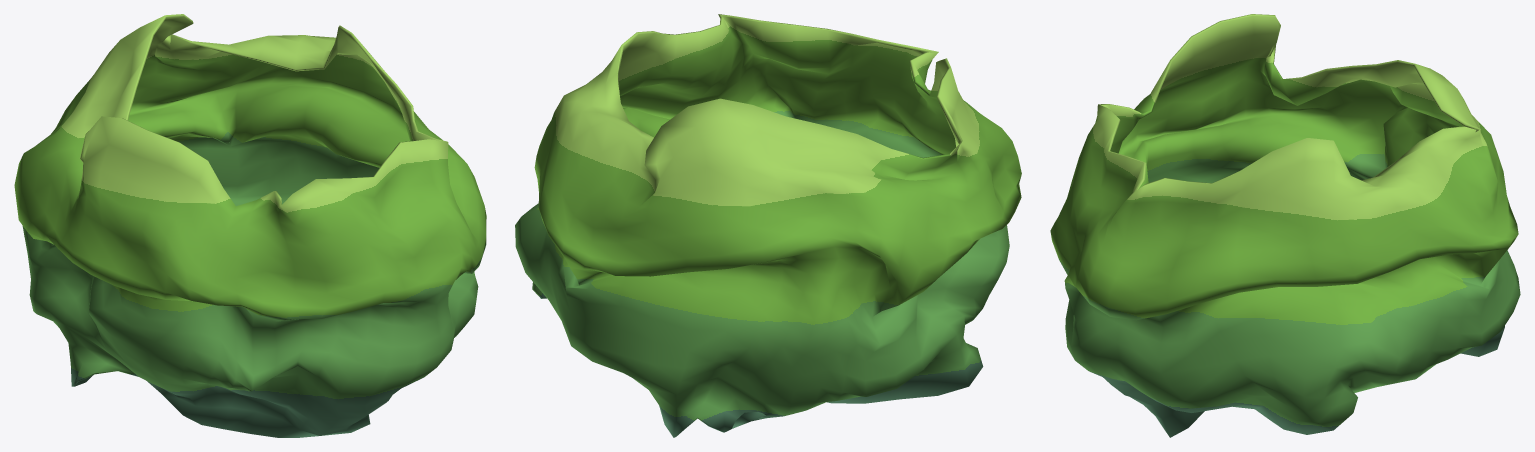
Rendered from cascaraLechuga.fbx.
3 renders of one model, left to right at view 1: azimuth 30°, elevation 25°; view 2: azimuth 150°, elevation 25°; view 3: azimuth 270°, elevation 25°, orthographic. The views are drawn at different scales.
Parts seen in each view (by area): view 1: cascaraLechuga; view 2: cascaraLechuga; view 3: cascaraLechuga.
Boxes of the visible parts, <box> form: cascaraLechuga: <box>14,14,486,437</box>; cascaraLechuga: <box>515,14,1021,437</box>; cascaraLechuga: <box>1050,14,1520,437</box>.
Size of the model in its own units: 124 by 99.61 by 126.
